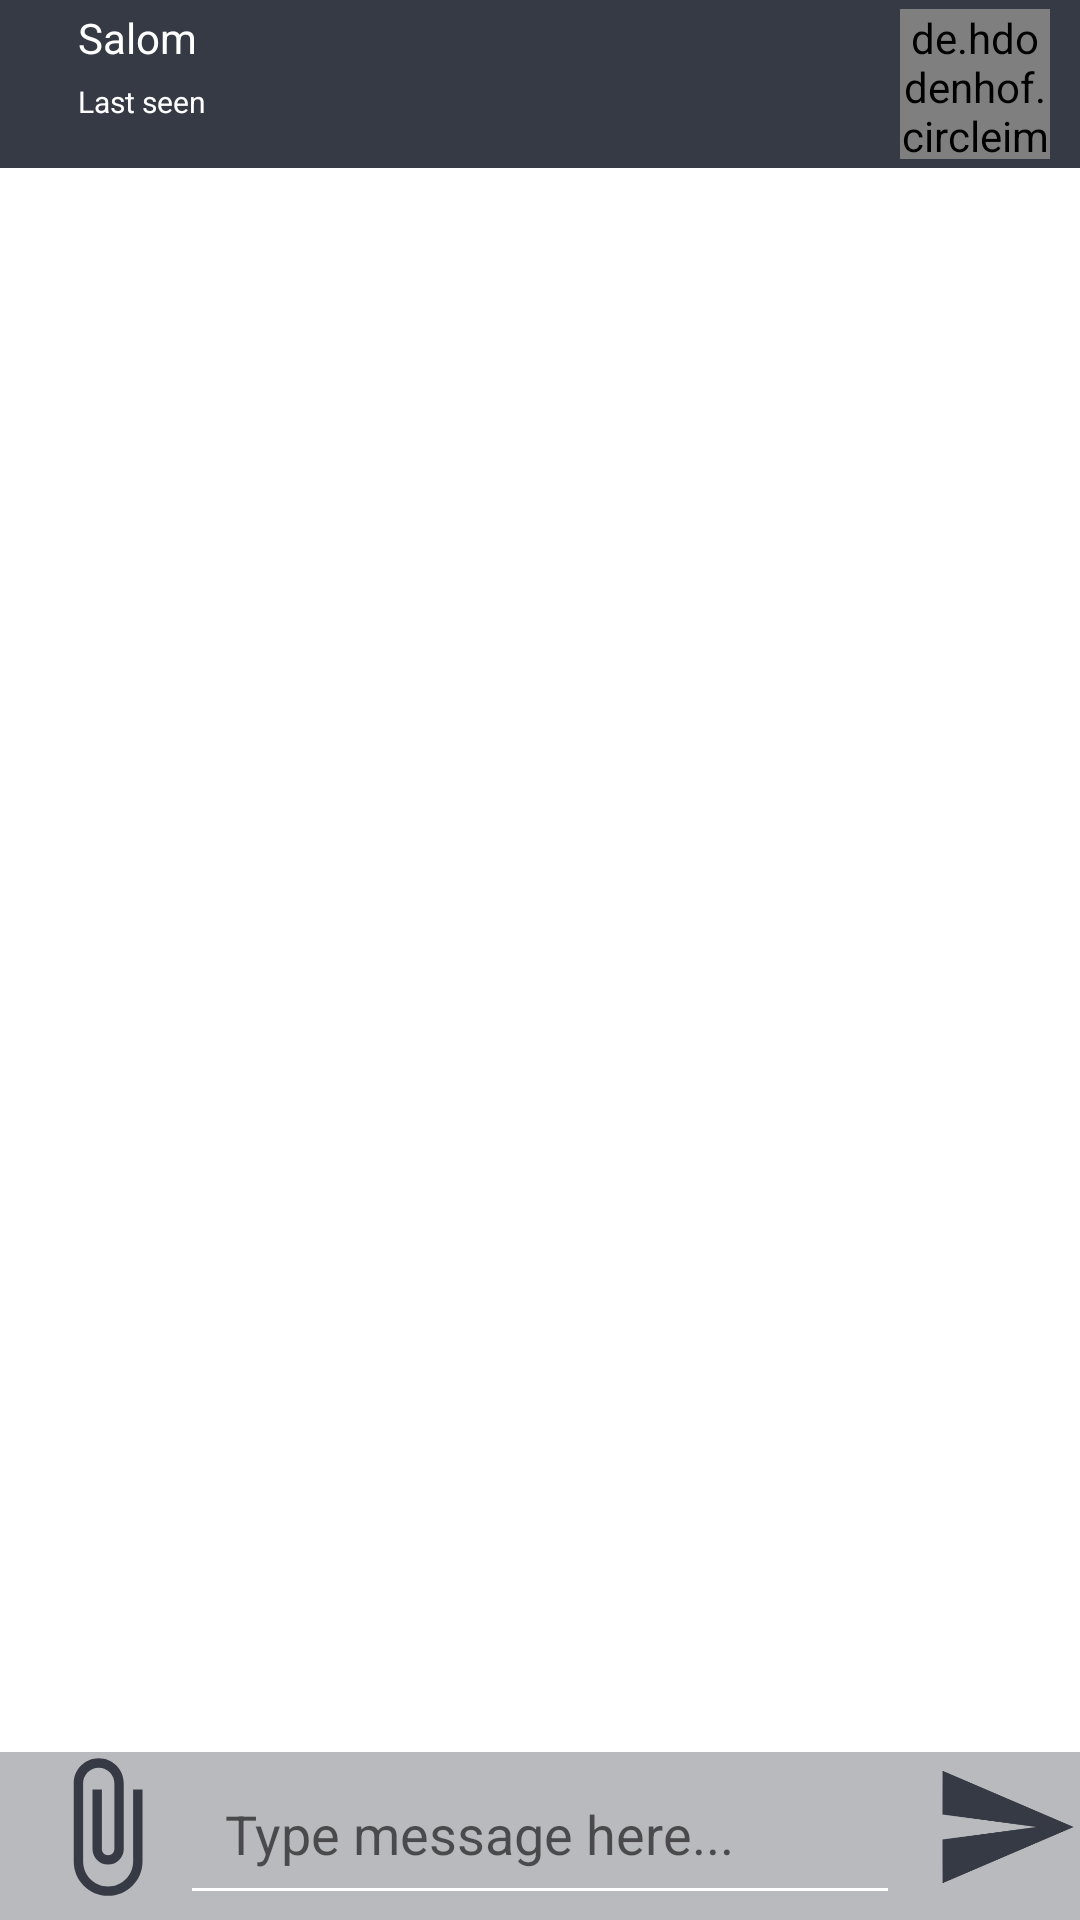

Named icons in this screenshot (1080px×1920px) and their bounding boxes, (x1, y1, x2, y2):
file: (73, 1758, 143, 1896)
send: (942, 1771, 1073, 1883)
